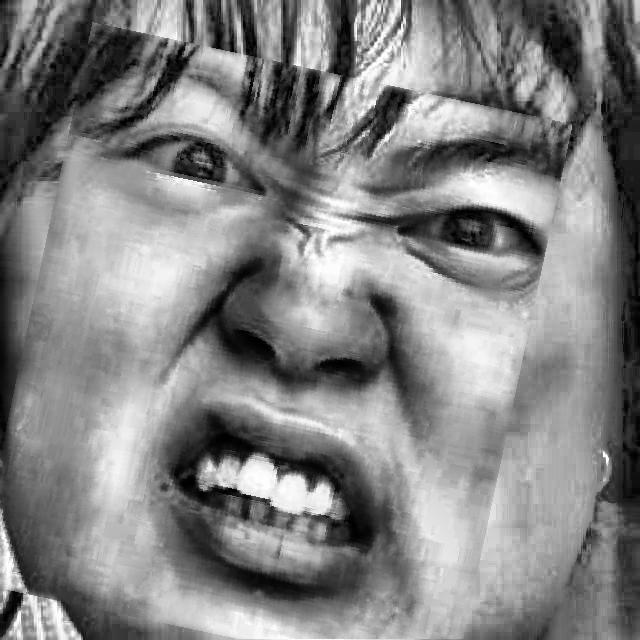angry: (0, 44, 545, 640)
